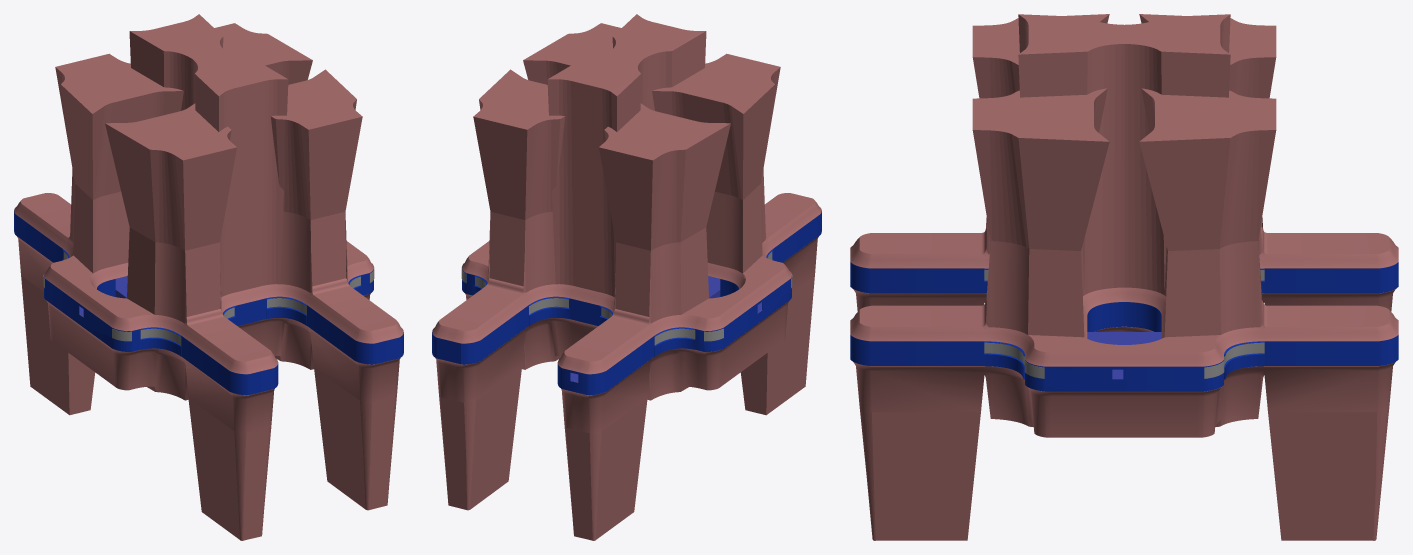
File: SS Module 4.FBX
3 renders of one model, left to right at view 1: azimuth 30°, elevation 25°; view 2: azimuth 150°, elevation 25°; view 3: azimuth 270°, elevation 25°, orthographic. The views are drawn at different scales.
Parts seen in each view (by area): view 1: Plane076; view 2: Plane076; view 3: Plane076, Floor001.
Part boxes in pixels (<box>): Plane076: <box>14,14,403,540</box>; Plane076: <box>432,14,821,540</box>; Plane076: <box>850,14,1398,540</box>; Floor001: <box>1087,332,1161,379</box>.
Size of the model in its own units: 130 by 186 by 199.
